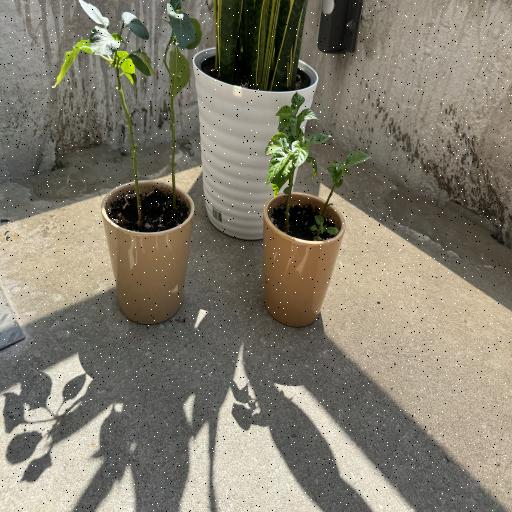Plant Pot: (194, 48, 318, 235), (101, 179, 193, 326), (262, 190, 345, 325)
